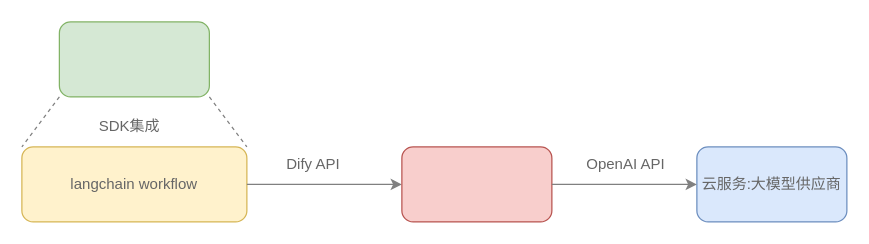
This 869x244 diagram has some shape labels left out. The shapes that lost their labels are listed below. From the top down, each one's centre as x and y in pixels, then its label:
pixel 133 59: 手机AI助手
pixel 476 184: 云服务:Dify workflow
